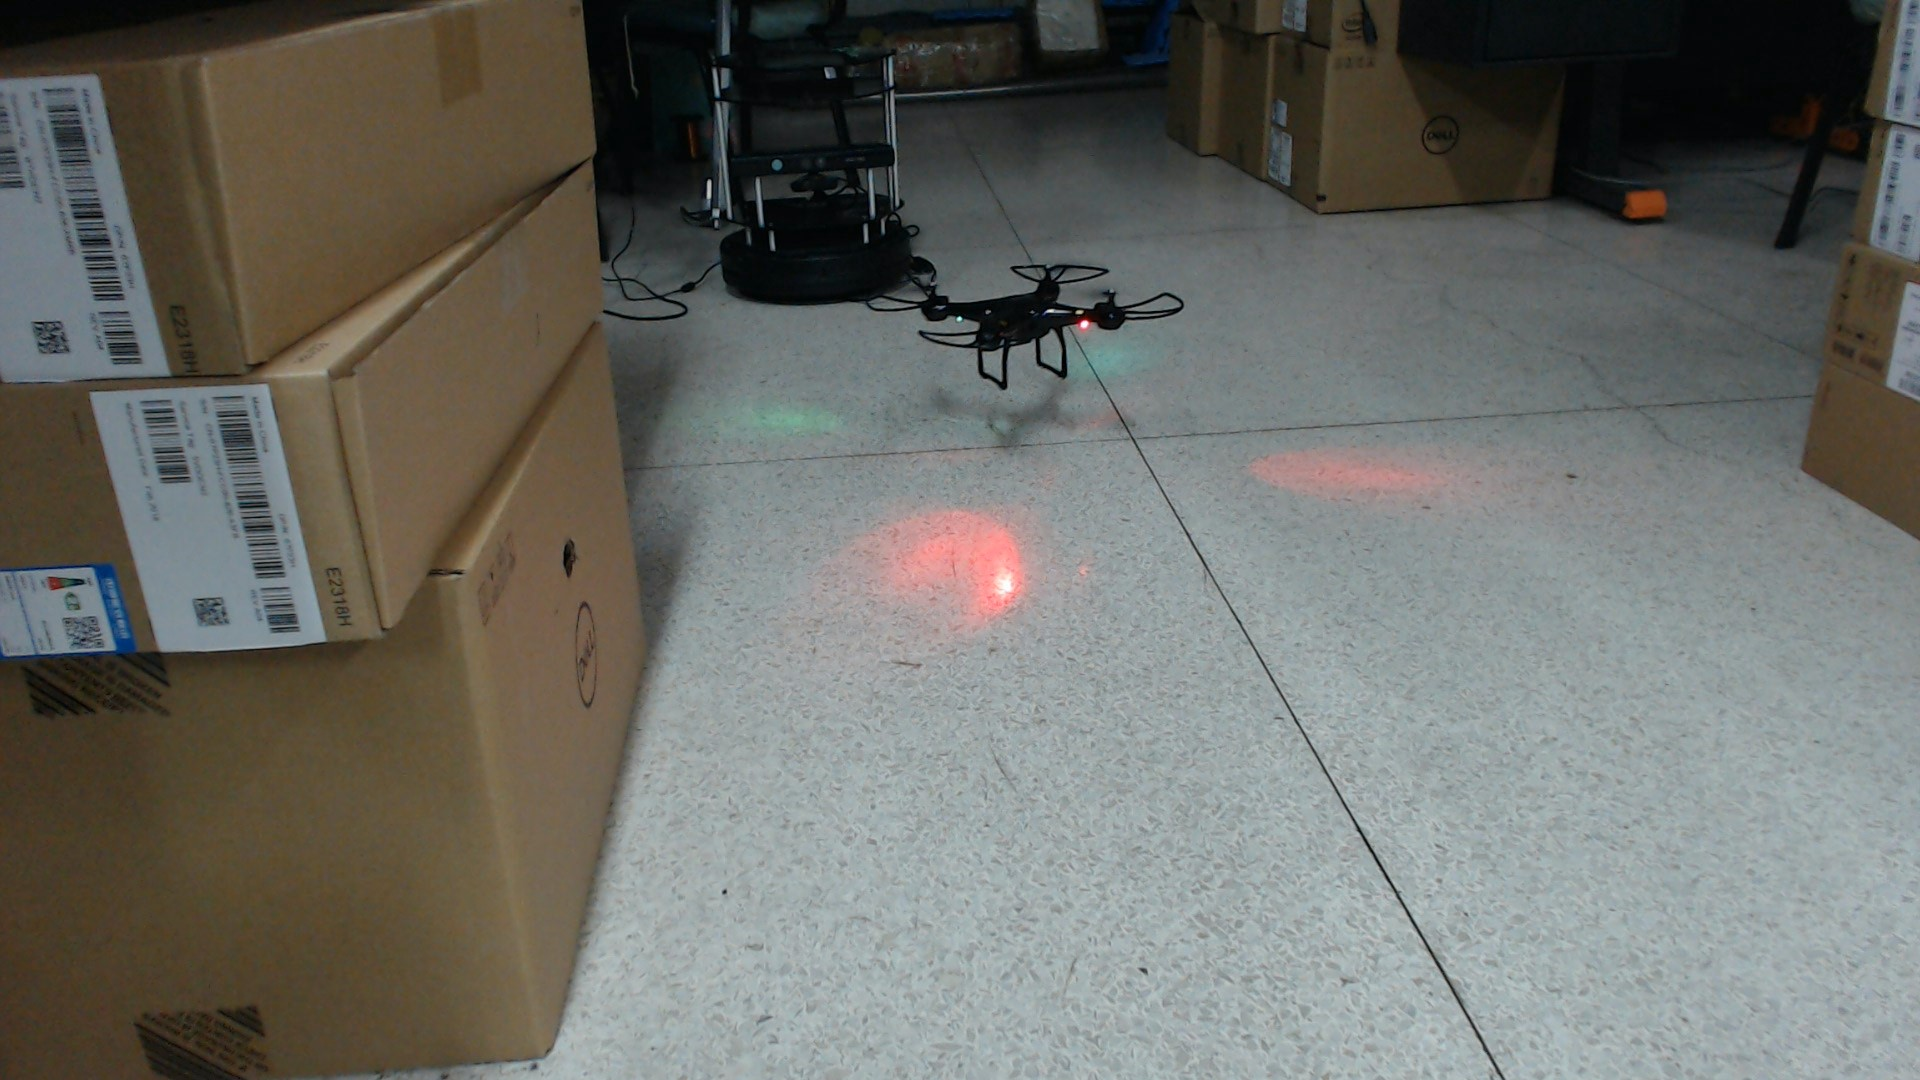drone_shadow: (940, 371, 1146, 455)
test_drone: (862, 261, 1189, 394)
